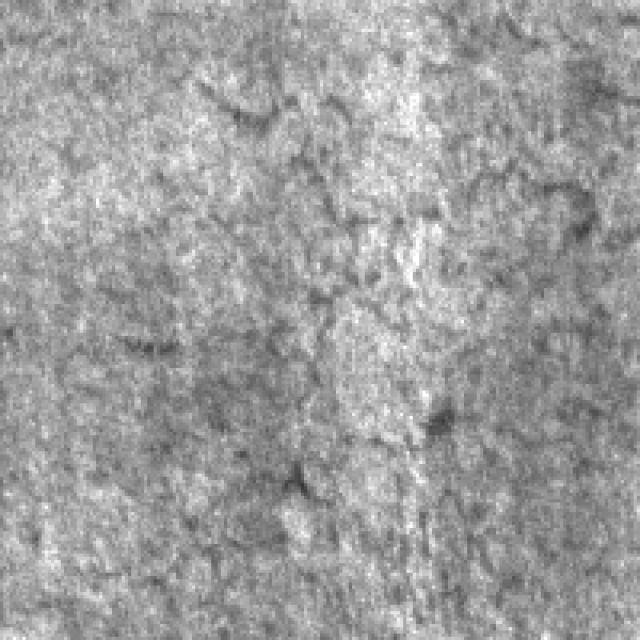crazing: (125, 157, 608, 557), (170, 6, 634, 176)
